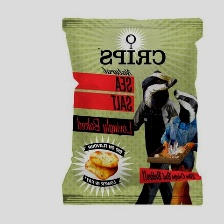snack: (54, 12, 211, 211)
